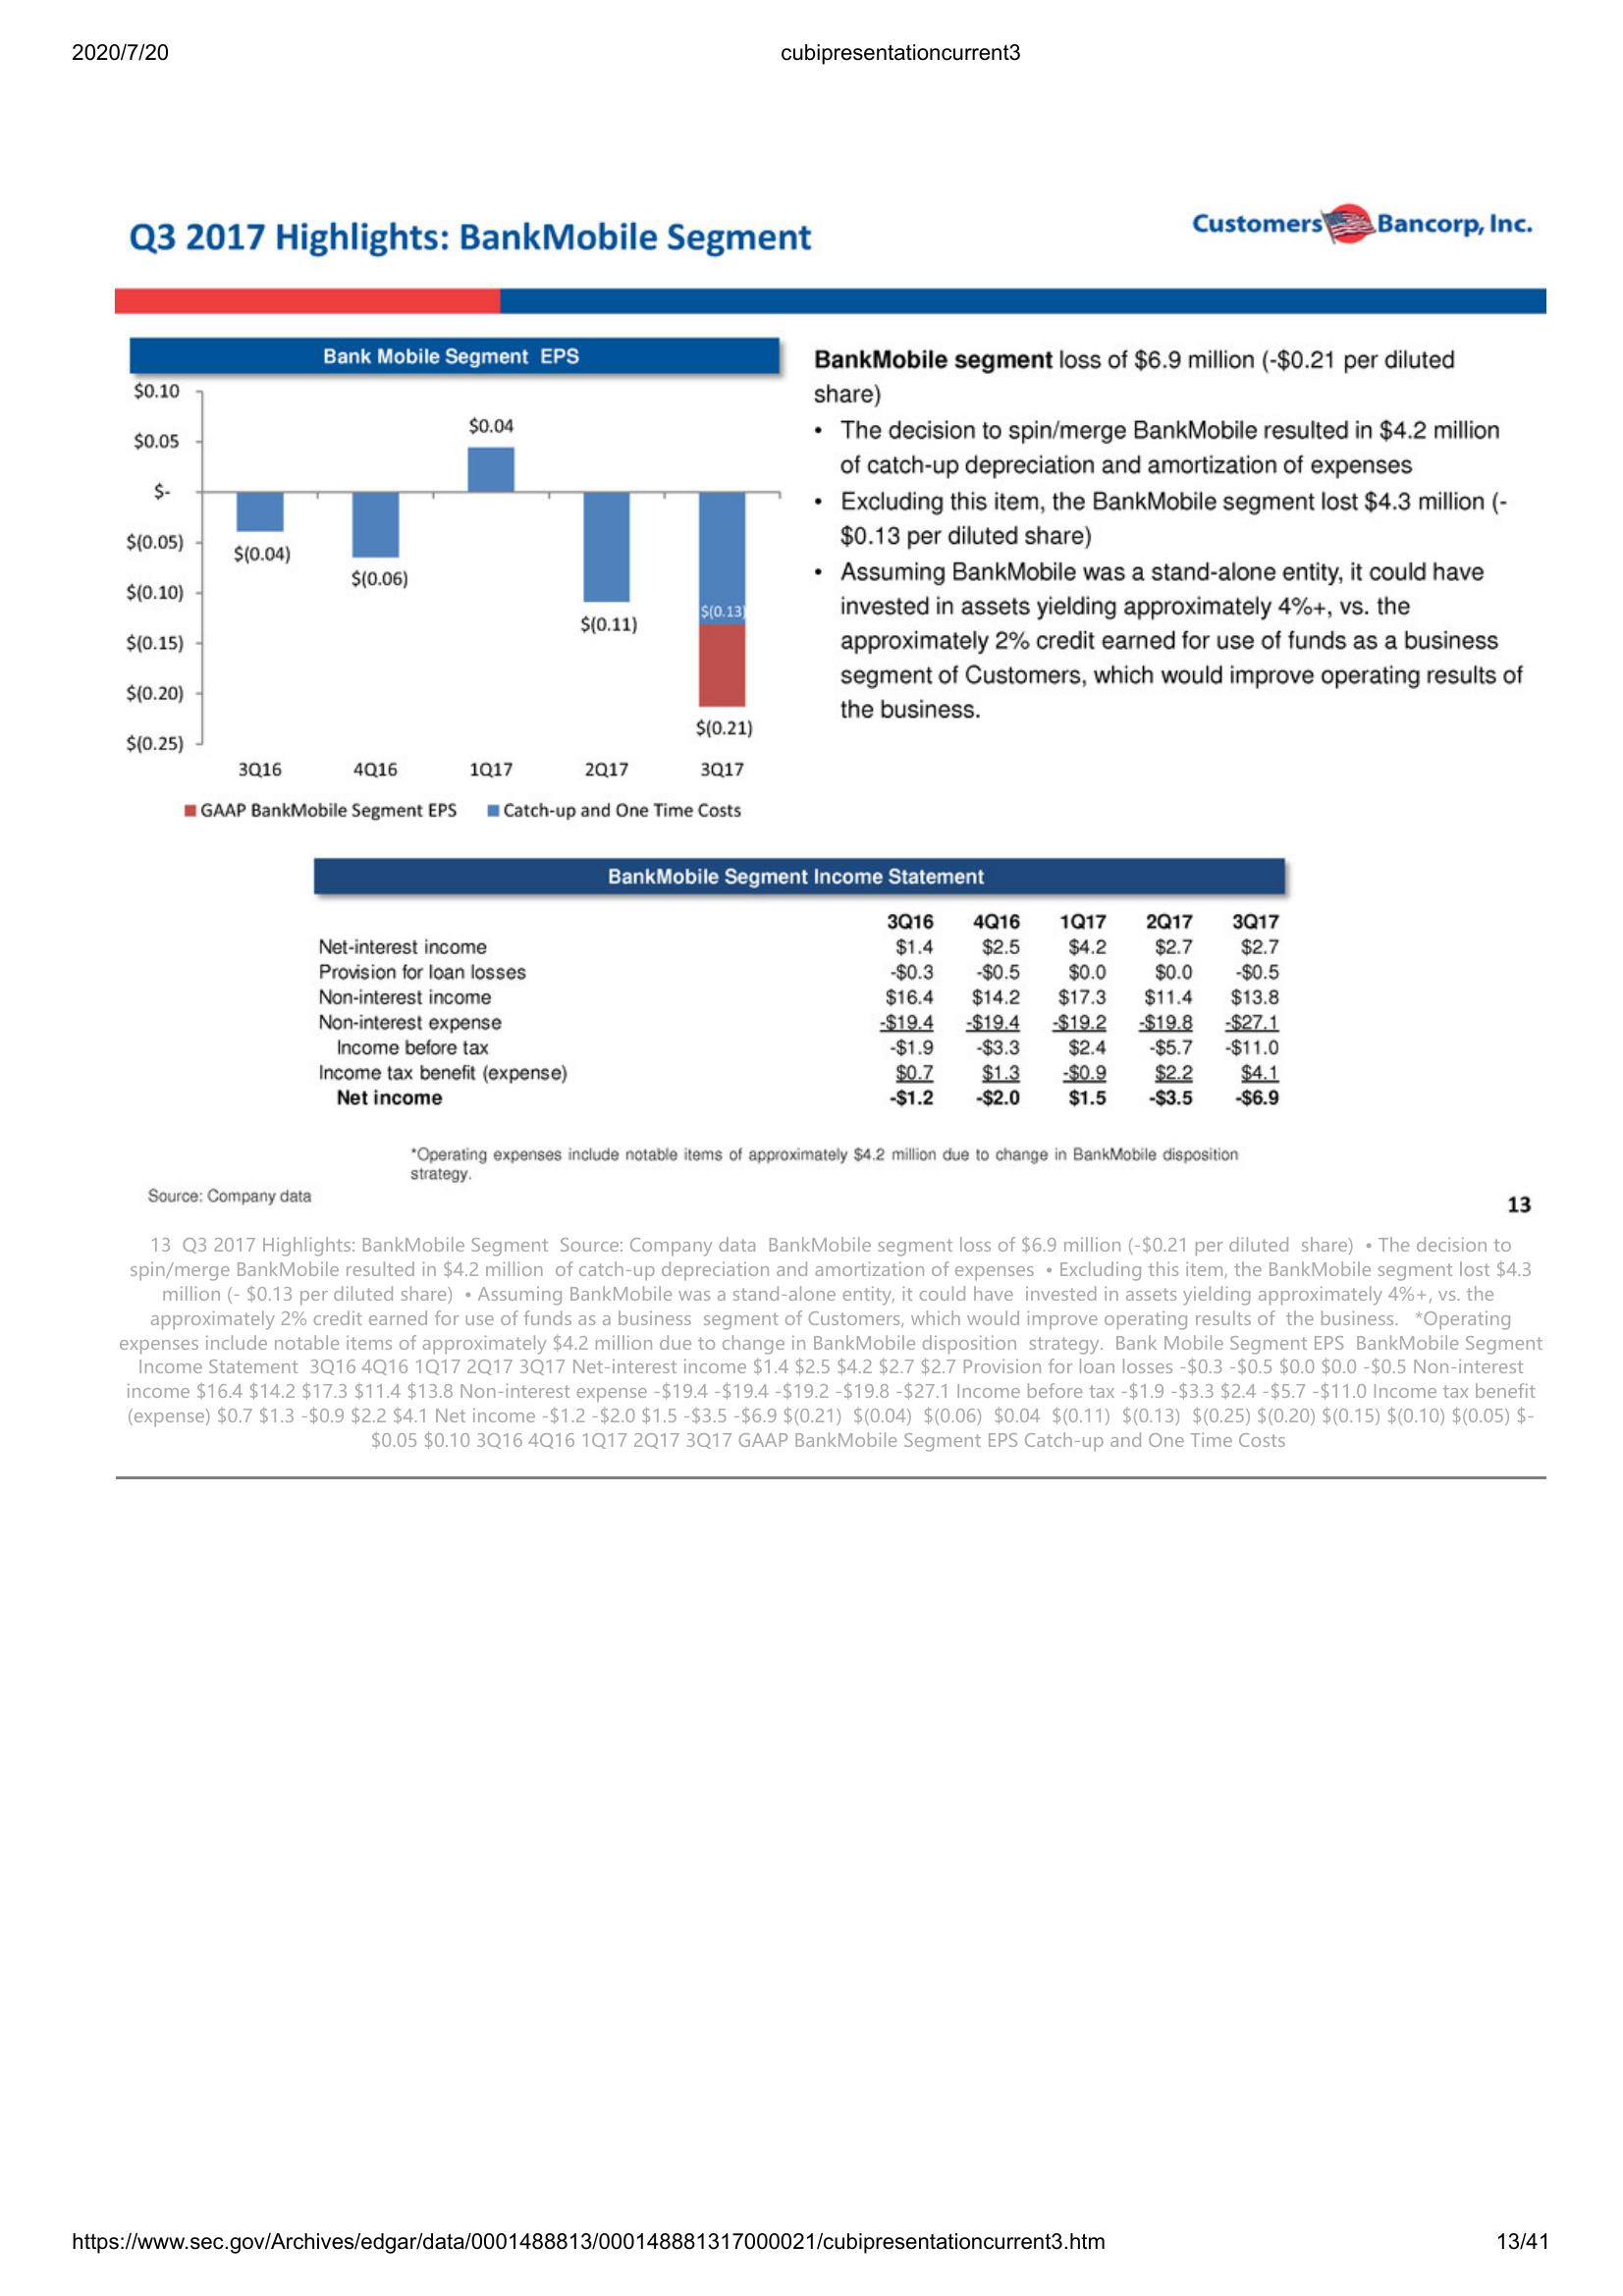table: (306, 851, 1295, 1120)
